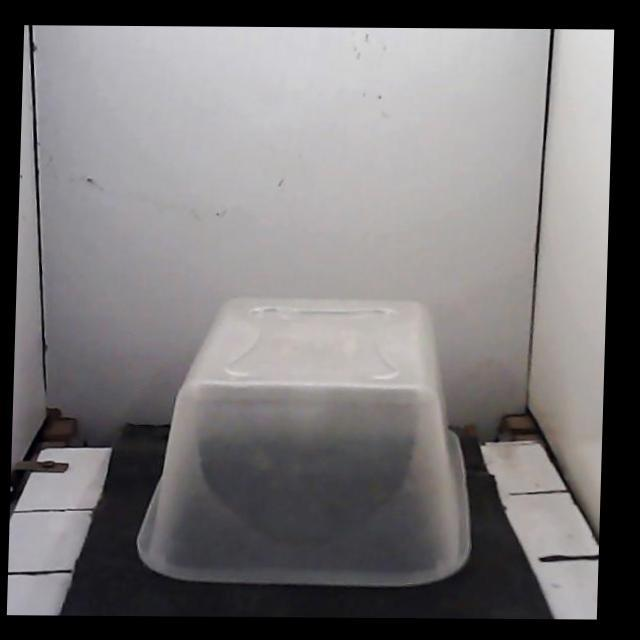plastico: (137, 299, 470, 586)
